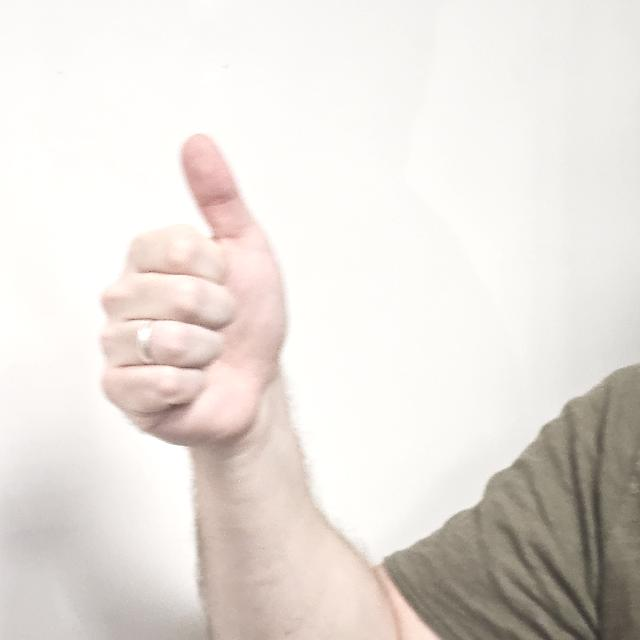Start: (100, 131, 290, 455)
